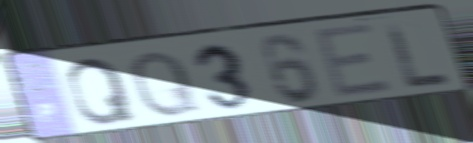3: (192, 39, 263, 115)
6: (260, 31, 321, 108)
E: (310, 21, 397, 103)
L: (381, 20, 453, 92)
Q: (127, 47, 204, 120), (63, 55, 139, 128)
